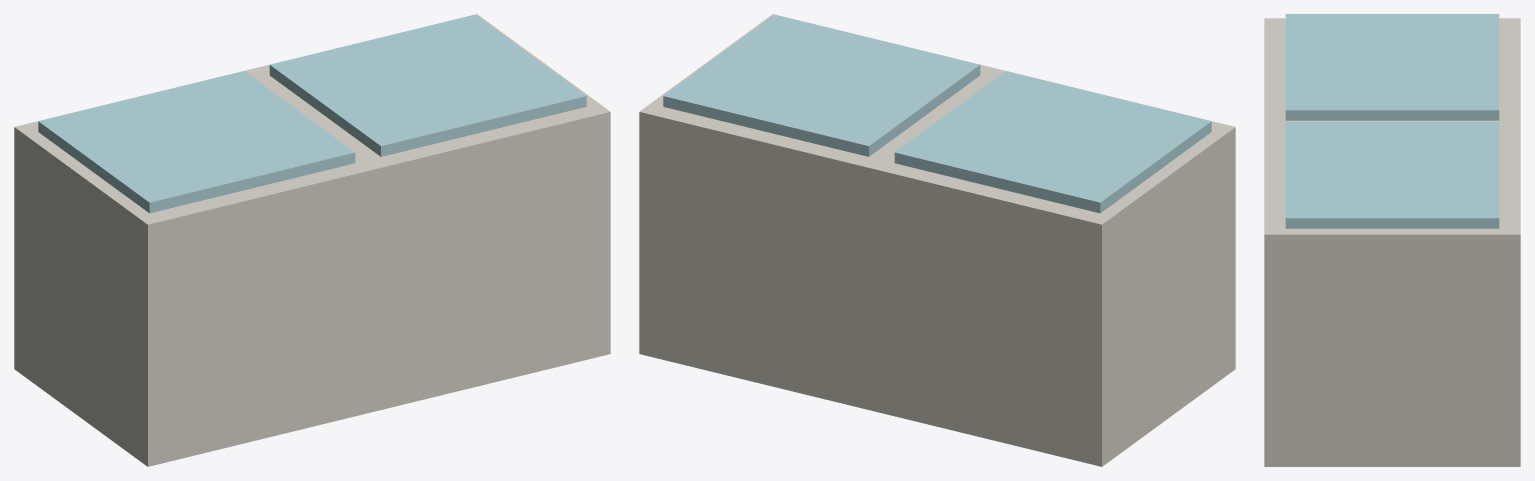
The model's file is supermarket-operations-chest-freezer-1d2b5397__26796.glb.
3 renders of one model, left to right at view 1: azimuth 30°, elevation 25°; view 2: azimuth 150°, elevation 25°; view 3: azimuth 270°, elevation 25°, orthographic. The views are drawn at different scales.
Visible parts, largest first — view 1: chest-freezer; view 2: chest-freezer; view 3: chest-freezer.
Part boxes in pixels (x1,y1,x2,y2): chest-freezer: (14, 14, 610, 466); chest-freezer: (639, 14, 1235, 466); chest-freezer: (1264, 14, 1520, 466).
Bounding box in the file's own units: 1.8 × 0.9401 × 0.9001.
